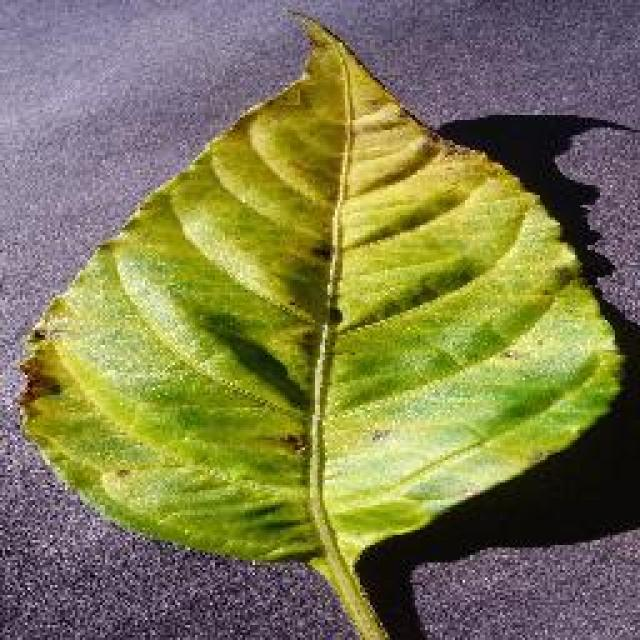Chilli_Bacterial_Spot: (12, 8, 628, 638), (13, 325, 65, 420), (275, 428, 307, 458), (305, 237, 333, 265), (365, 422, 393, 448), (323, 300, 345, 328)
